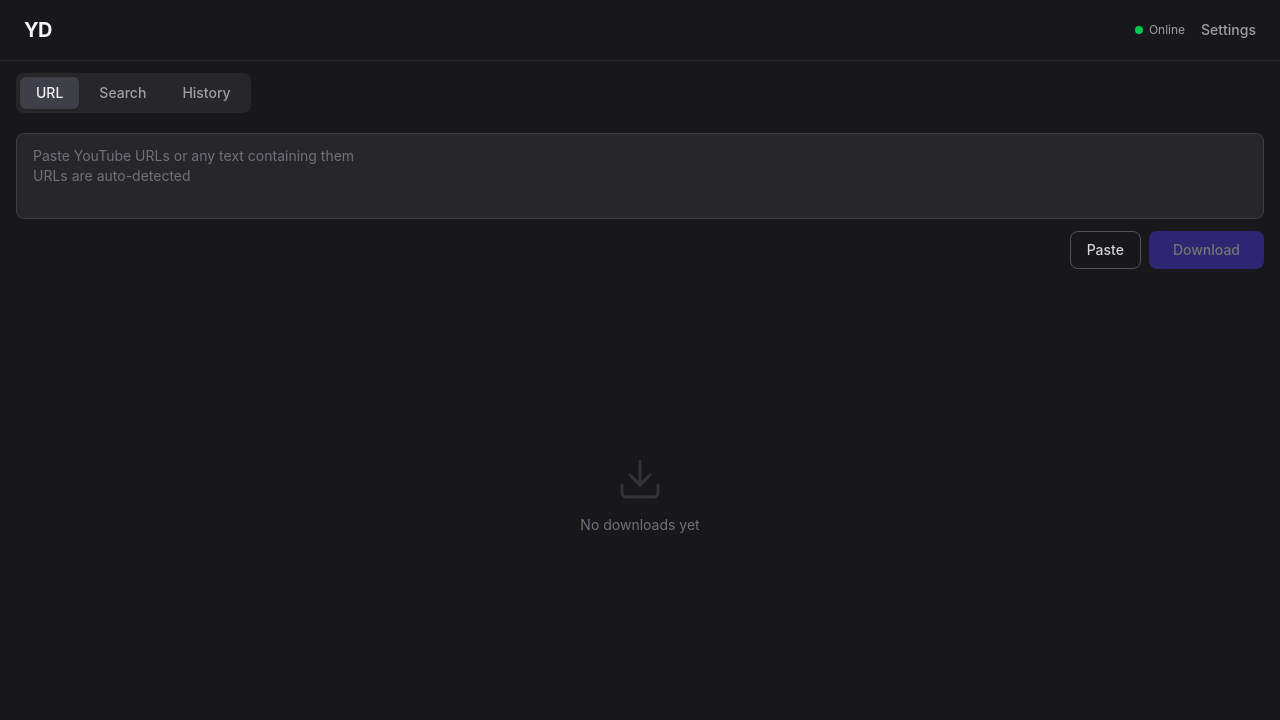
Test case: App › opens settings as a drawer over the app when Settings is clicked
The image size is (1280, 720).
Click the button "Settings": (1229, 30) left=1201, top=20, right=1256, bottom=40
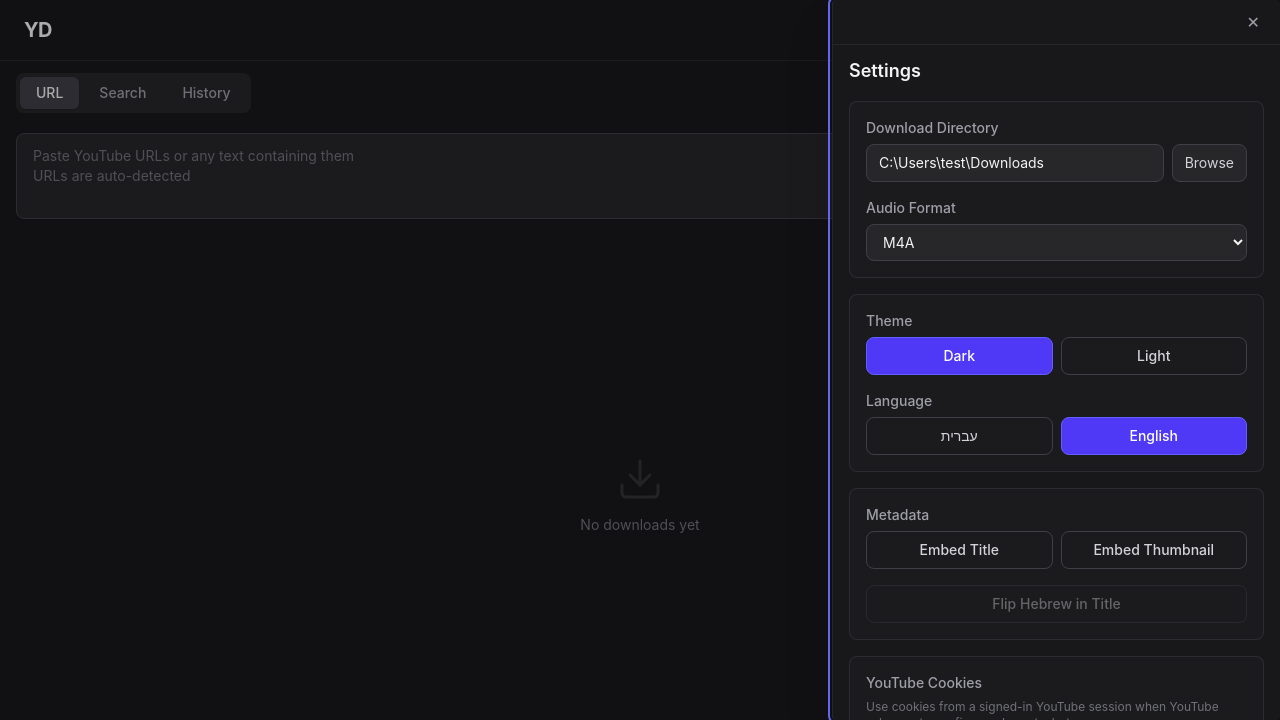
Expected: the element showing "URL Search History" is shown, left=16, top=73, right=251, bottom=113
Expected: the dialog "Settings" is shown, left=832, top=0, right=1279, bottom=719
